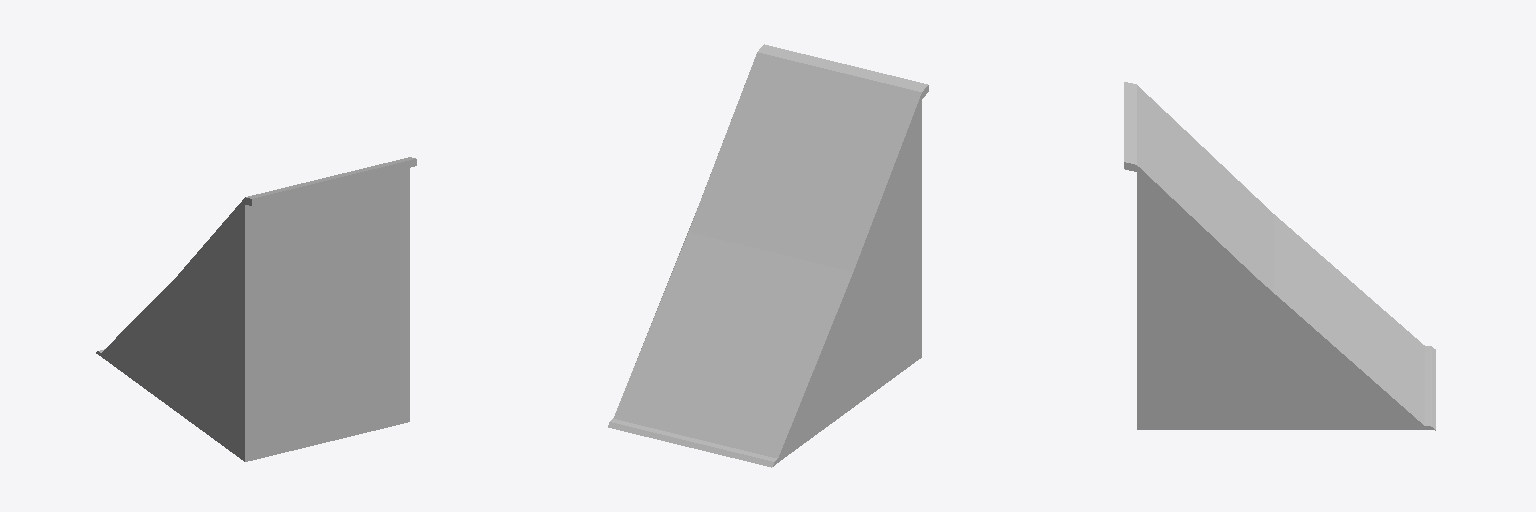
The model's file is Sandwhiches.obj.
3 views of the same model, side by side, from view 1: azimuth 30°, elevation 25°; view 2: azimuth 150°, elevation 25°; view 3: azimuth 270°, elevation 25° (orthographic).
Parts seen in each view (by area): view 1: Cube; view 2: Cube; view 3: Cube.
Boxes of the visible parts, <box> form: Cube: <box>96,157,416,461</box>; Cube: <box>608,44,928,467</box>; Cube: <box>1124,82,1435,430</box>.
Size of the model in its own units: 3.75 by 5.84 by 6.16.